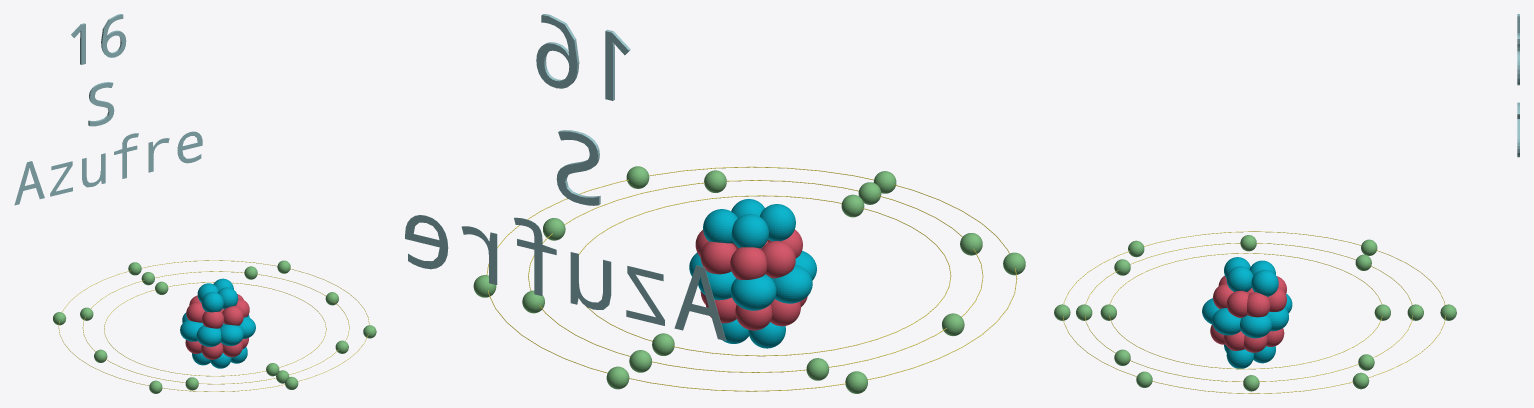
The model's file is 16-AZUFRE-ANDROID.glb.
3 views of the same model, side by side, from view 1: azimuth 30°, elevation 25°; view 2: azimuth 150°, elevation 25°; view 3: azimuth 270°, elevation 25° (orthographic). The views are drawn at different scales.
Visible parts, largest first — view 1: Mesh_Mesh_head_geo.001_lambert2SG.001; view 2: Mesh_Mesh_head_geo.001_lambert2SG.001; view 3: Mesh_Mesh_head_geo.001_lambert2SG.001.
Boxes of the visible parts, <box> form: Mesh_Mesh_head_geo.001_lambert2SG.001: <box>14,14,376,393</box>; Mesh_Mesh_head_geo.001_lambert2SG.001: <box>405,14,1025,393</box>; Mesh_Mesh_head_geo.001_lambert2SG.001: <box>1054,14,1519,393</box>.
Size of the model in its own units: 140 by 132 by 170.
